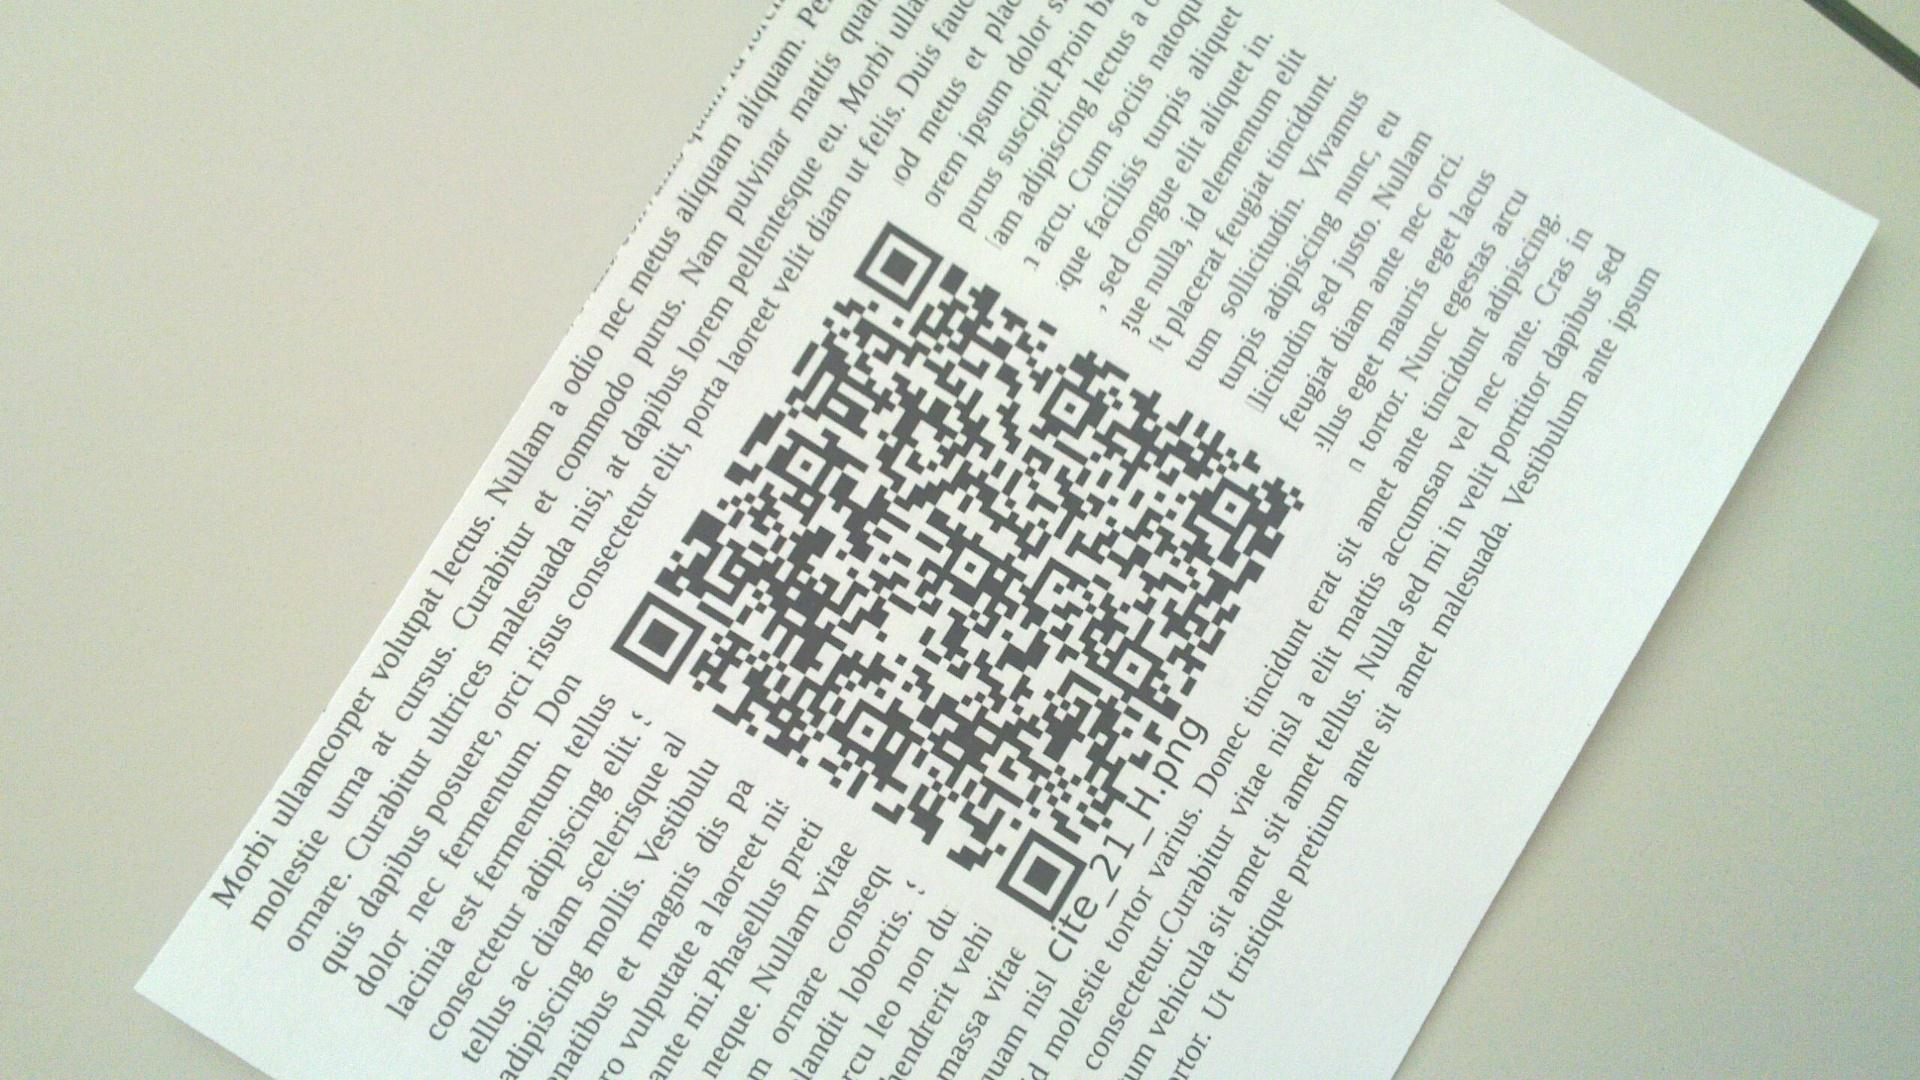Finder pattern: (992, 829, 1087, 924), (609, 593, 702, 688), (851, 222, 944, 313)
